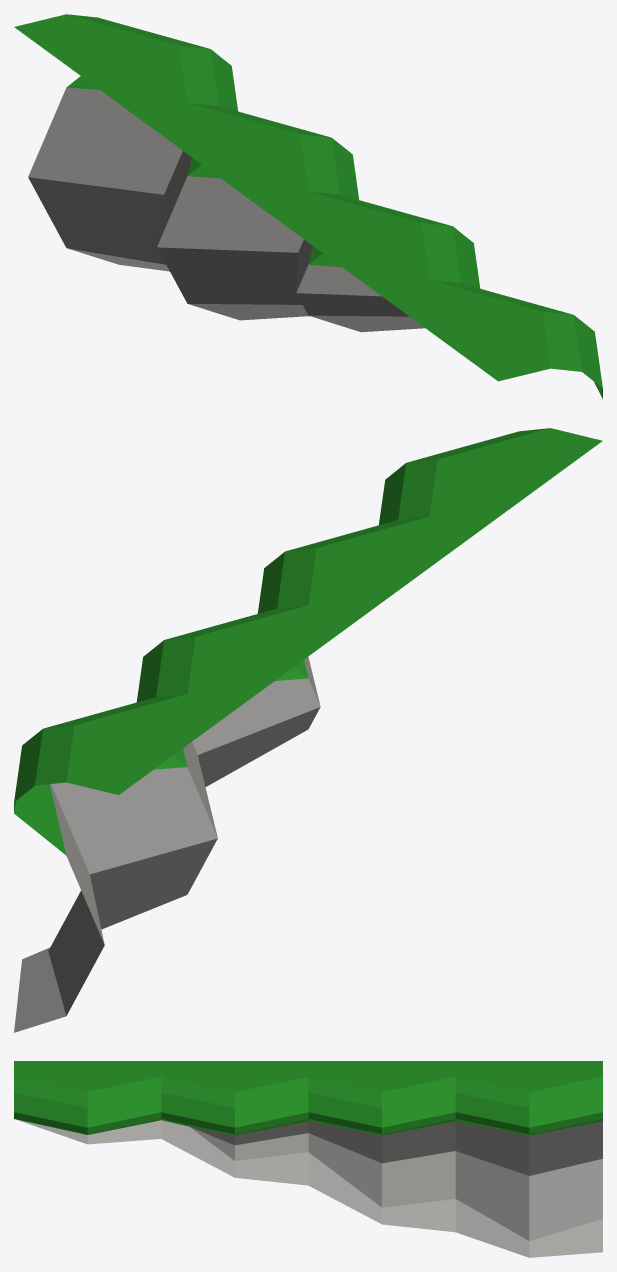
Rendered from Cliff_Terrain_Hill_Base_Top_Joined_Gentle.obj.
The picture shows the model from 3 angles, top to bottom: view 1: azimuth 30°, elevation 25°; view 2: azimuth 150°, elevation 25°; view 3: azimuth 270°, elevation 25°; orthographic projection. The views are drawn at different scales.
Parts seen in each view (by area): view 1: object1; view 2: object1; view 3: object1.
Part boxes in pixels (x1,y1,x2,y2): object1: [14, 14, 602, 398]; object1: [14, 428, 602, 1032]; object1: [14, 1061, 602, 1257].
Size of the model in its own units: 0.75 by 1.2 by 4.
